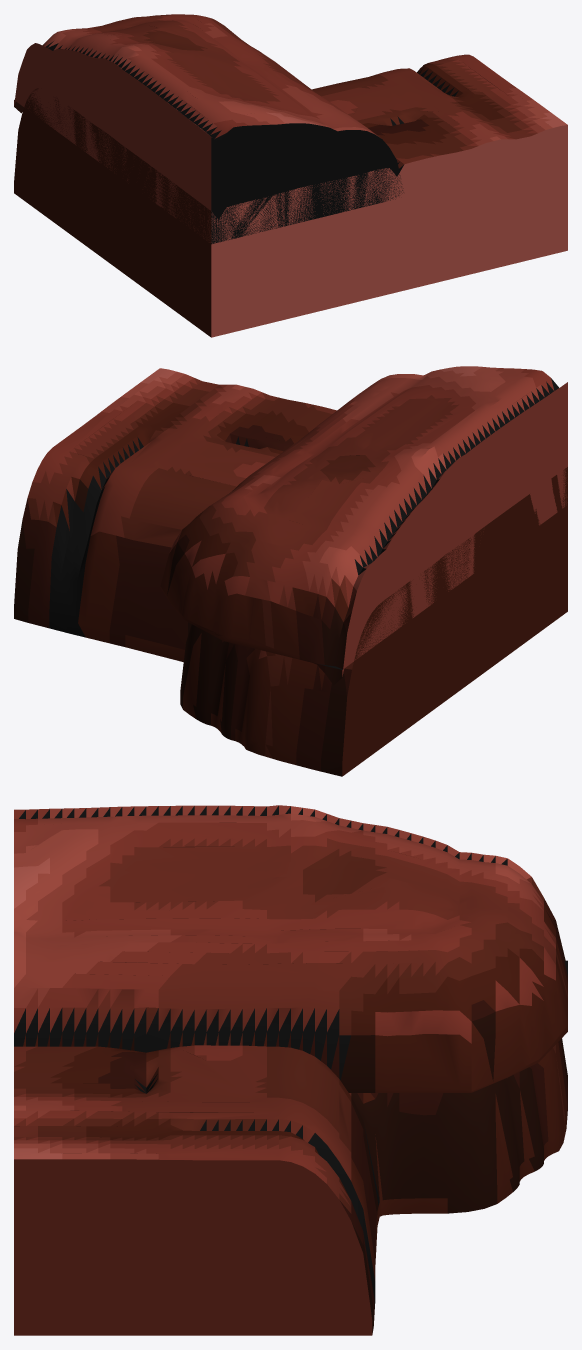
The model's file is savara_boss_159.glb.
3 renders of one model, top to bottom at view 1: azimuth 30°, elevation 25°; view 2: azimuth 150°, elevation 25°; view 3: azimuth 270°, elevation 25°, orthographic. The views are drawn at different scales.
Visible parts, largest first — view 1: savara_boss_159_hull; view 2: savara_boss_159_hull; view 3: savara_boss_159_hull.
Boxes of the visible parts, x1=… form: savara_boss_159_hull: x1=14, y1=14, x2=567, y2=337; savara_boss_159_hull: x1=14, y1=366, x2=567, y2=776; savara_boss_159_hull: x1=14, y1=805, x2=567, y2=1335.
Bounding box in the file's own units: 24 × 13.43 × 23.
